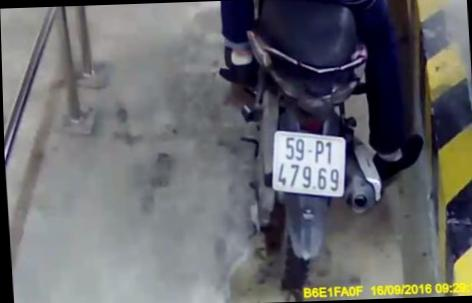LP: (267, 126, 349, 200)
